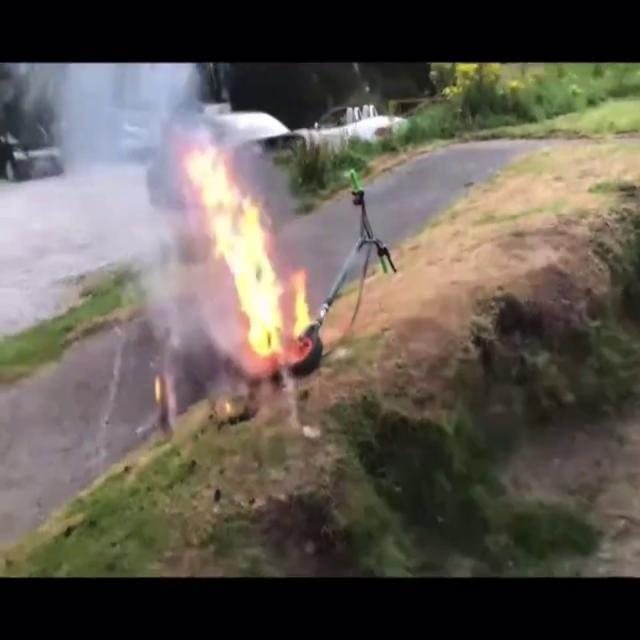Fire: (185, 128, 316, 360)
Smoke: (45, 63, 222, 324)
